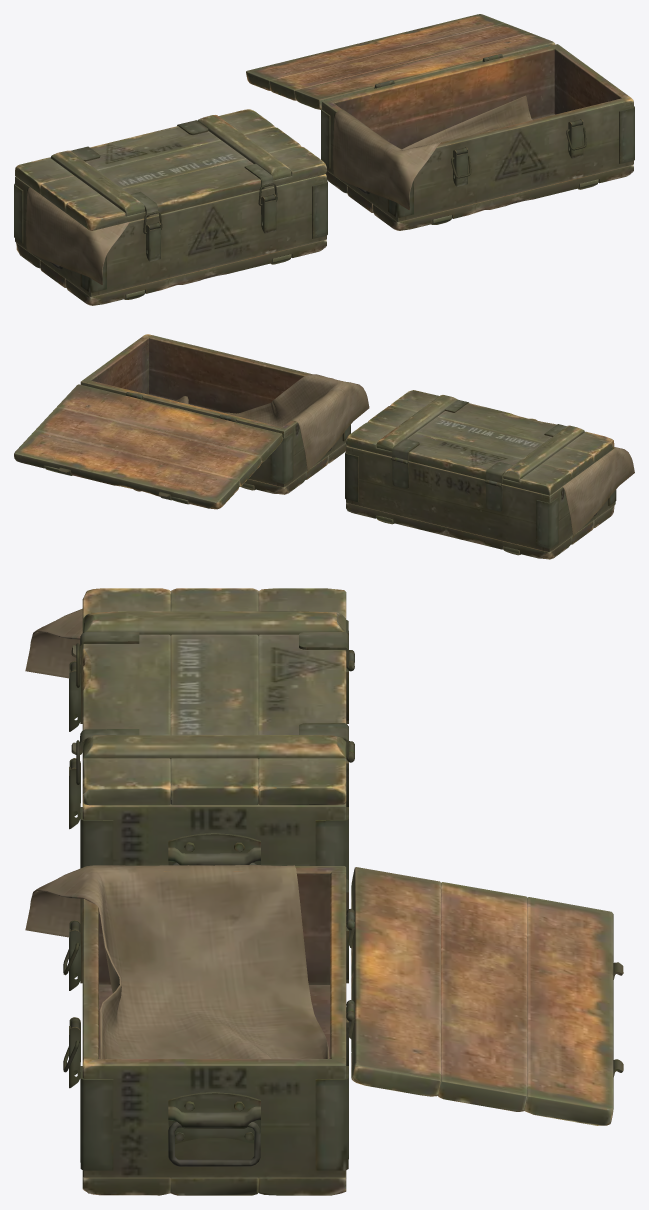
File: old_military_crate.glb
3 views of the same model, one above another, from view 1: azimuth 30°, elevation 25°; view 2: azimuth 150°, elevation 25°; view 3: azimuth 270°, elevation 25° (orthographic). The views are drawn at different scales.
Visible parts, largest first — view 1: old_military_crate_b, old_military_crate_lid_a, old_military_crate_a, old_military_crate_lid_b, old_military_crate_cloth_b, old_military_crate_cloth_a, old_military_crate_latch_a, old_military_crate_latch_b; view 2: old_military_crate_lid_b, old_military_crate_lid_a, old_military_crate_a, old_military_crate_b, old_military_crate_cloth_b, old_military_crate_cloth_a; view 3: old_military_crate_lid_a, old_military_crate_lid_b, old_military_crate_b, old_military_crate_cloth_b, old_military_crate_a, old_military_crate_cloth_a, old_military_crate_latch_b, old_military_crate_latch_a.
Part boxes in pixels (left/top/right/bottom): old_military_crate_b: left=321, top=44, right=634, bottom=230; old_military_crate_lid_a: left=15, top=109, right=326, bottom=230; old_military_crate_a: left=14, top=174, right=327, bottom=305; old_military_crate_lid_b: left=246, top=14, right=555, bottom=109; old_military_crate_cloth_b: left=333, top=95, right=532, bottom=209; old_military_crate_cloth_a: left=26, top=187, right=129, bottom=284; old_military_crate_latch_a: left=146, top=194, right=276, bottom=261; old_military_crate_latch_b: left=453, top=119, right=583, bottom=186; old_military_crate_lid_b: left=14, top=384, right=282, bottom=509; old_military_crate_lid_a: left=346, top=390, right=614, bottom=495; old_military_crate_a: left=345, top=446, right=616, bottom=559; old_military_crate_b: left=80, top=334, right=350, bottom=494; old_military_crate_cloth_b: left=174, top=374, right=369, bottom=470; old_military_crate_cloth_a: left=562, top=447, right=634, bottom=535; old_military_crate_lid_a: left=71, top=588, right=354, bottom=805; old_military_crate_lid_b: left=346, top=867, right=623, bottom=1125; old_military_crate_b: left=80, top=866, right=354, bottom=1195; old_military_crate_cloth_b: left=25, top=865, right=328, bottom=1058; old_military_crate_a: left=80, top=620, right=354, bottom=889; old_military_crate_cloth_a: left=25, top=608, right=82, bottom=678; old_military_crate_latch_b: left=69, top=920, right=80, bottom=1088; old_military_crate_latch_a: left=69, top=661, right=80, bottom=829.
Size of the model in its own units: 1.82 by 0.301 by 0.9757.
1 material, 1 textured.
